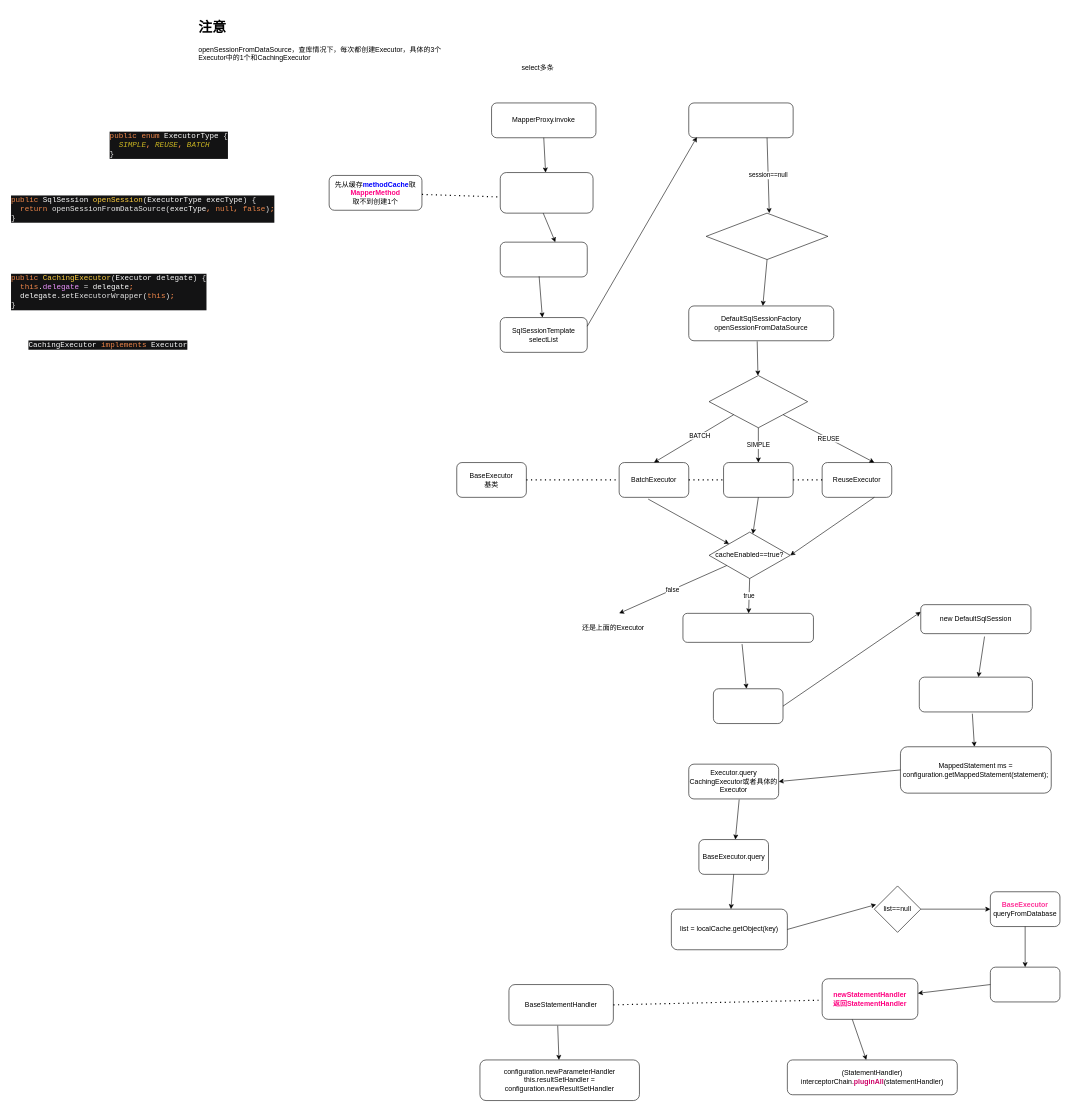
Some shapes in this 1070 by 1111 pixel diagram are drawn without their labels. The shapes that lost their labels are listed below. From the top down, each one's box as (x1, y1, x2, y2) in pixels, then its label:
(688, 102, 793, 138): SqlSessionInterceptor invoke
(500, 172, 593, 213): MapperMethod.execute
(706, 213, 828, 260): SqlSessionFactory DefaultSqlSessionFactory openSession
(500, 242, 587, 277): SqlSession.selectList
(708, 375, 808, 428): Configuration newExecutor
(723, 462, 793, 497): SimpleExecutor
(682, 613, 813, 642): new CachingExecutor(executor) 被CachingExecutor包装
(713, 688, 783, 724): InterceptorChain pluginAll
(919, 677, 1032, 712): DefaultSqlSession.selectList
(990, 967, 1060, 1002): BaseExecutor doQuery
